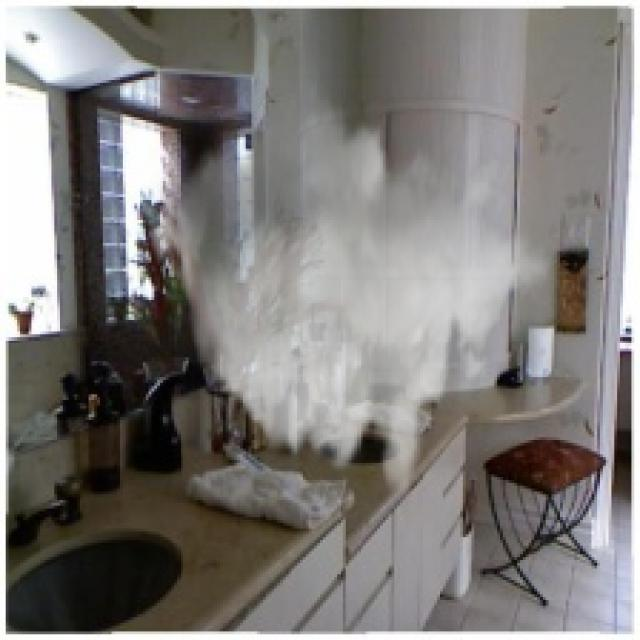smoke: (146, 74, 551, 497)
